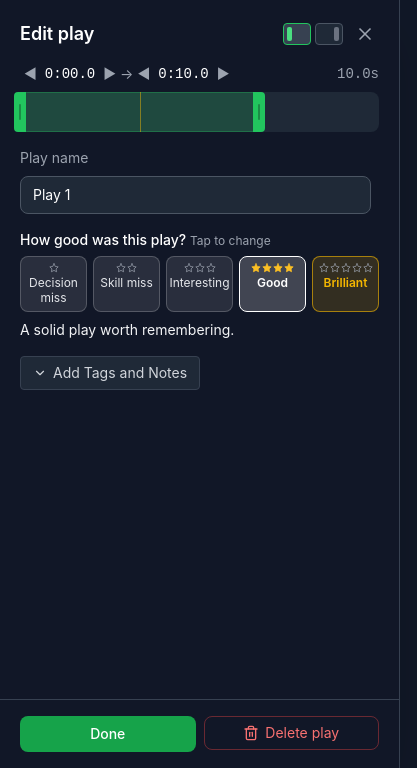
Test case: AnnotateFullscreenOverlay — no amber no_sport wall on mobile (T8140) › desktop no_sport form keeps the in-form picker (T7922 preserved), inside details
This screenshot has width=417, height=768.
Expected: the text "Pick your sport to tag this play" is not shown
Click the button with test id "add-details-button" at [110, 373], box x1=20 y1=356 x2=200 y2=390
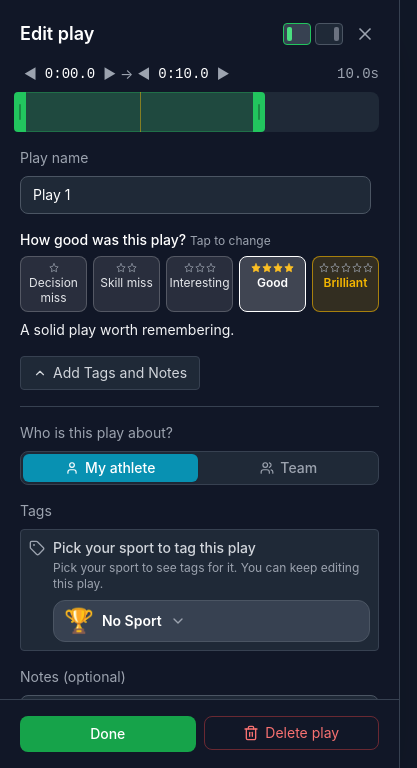
Expected: the text "Pick your sport to tag this play" is shown, x1=53 y1=539 x2=256 y2=556
Click the button with test id "add-details-button" at [110, 373], box x1=20 y1=356 x2=200 y2=390
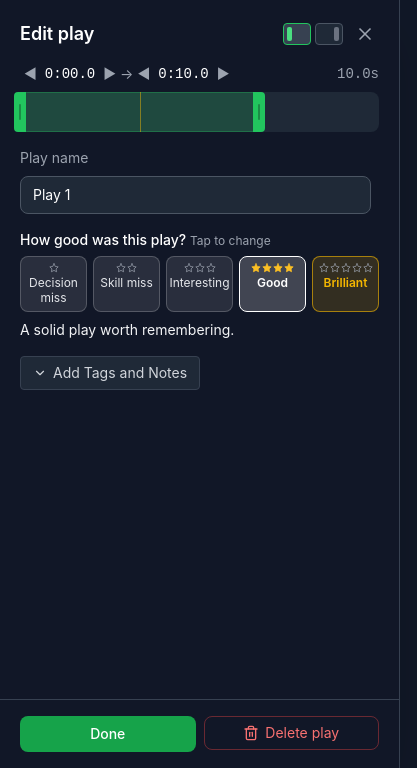
Expected: the text "Pick your sport to tag this play" is gone
